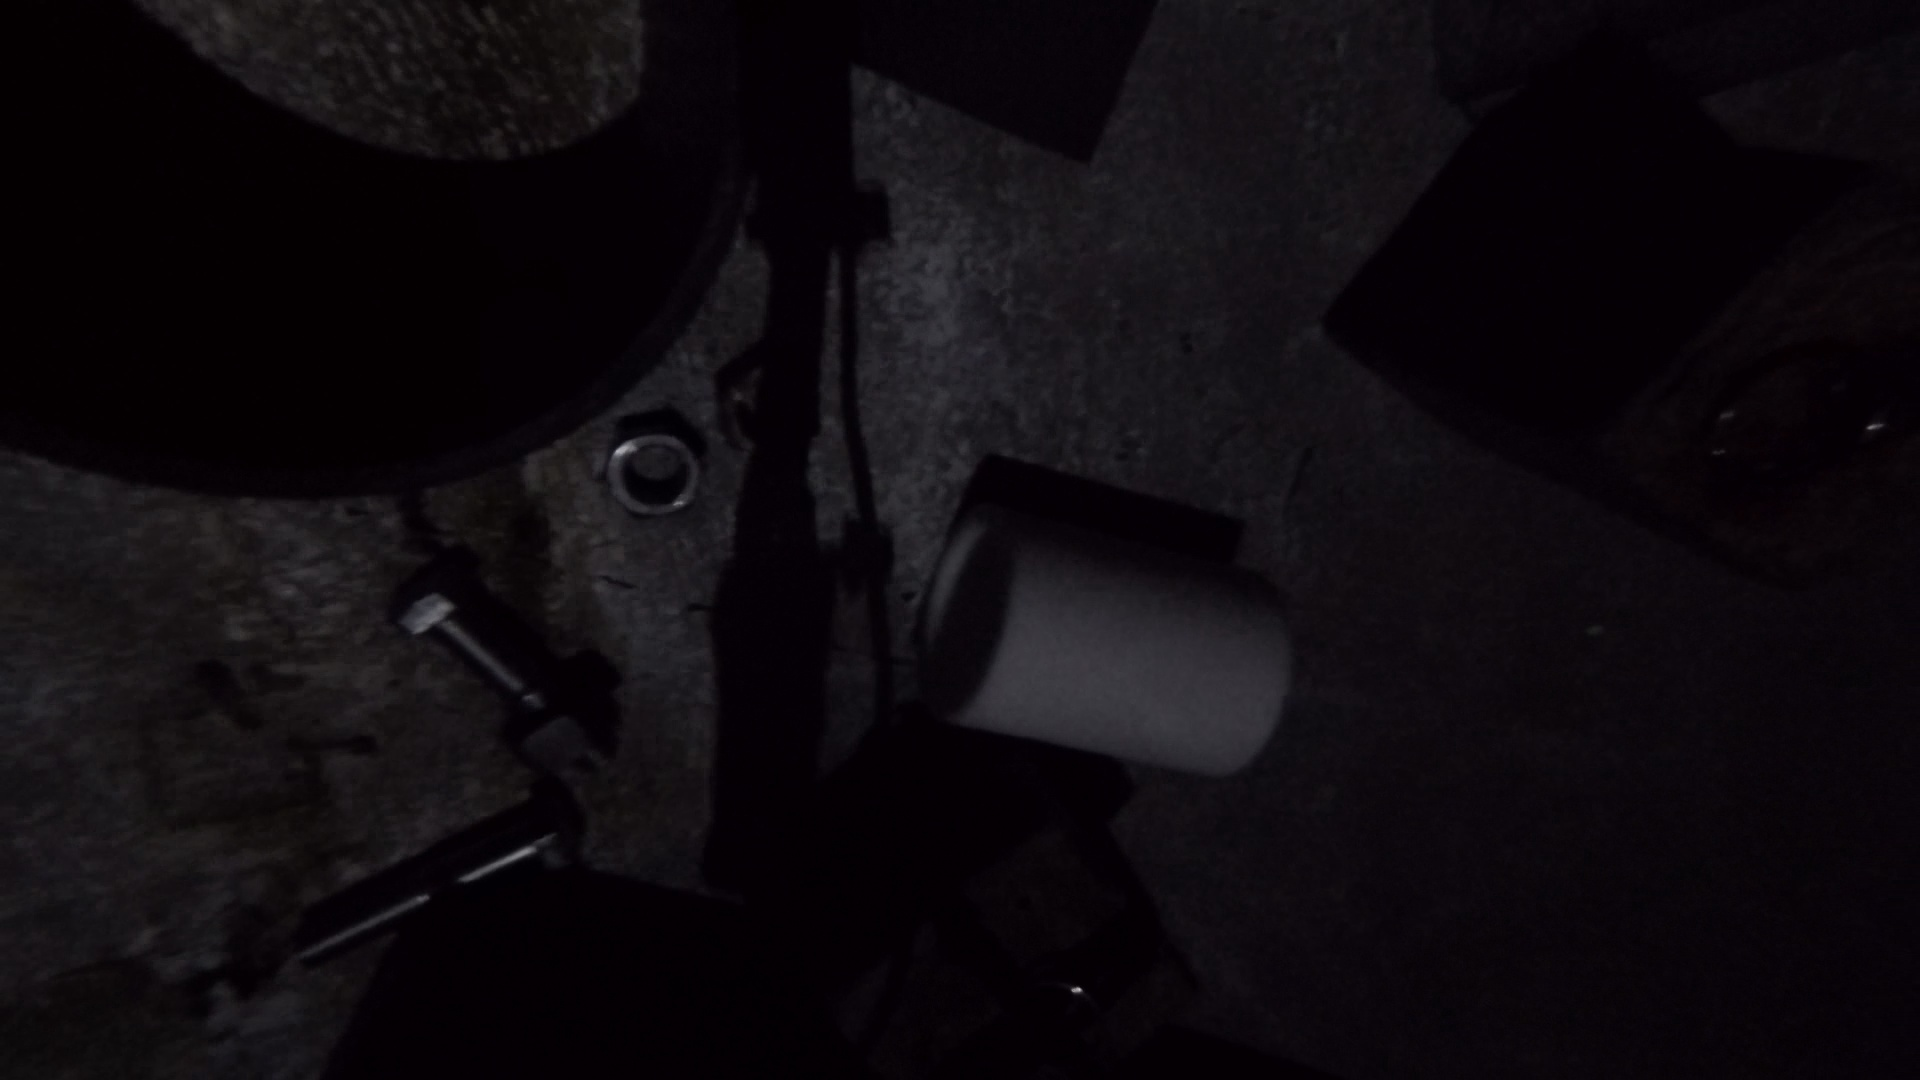bolt: (388, 545, 620, 774), (291, 796, 580, 971)
led_block: (1321, 99, 1911, 599), (799, 757, 1203, 1077)
nut: (502, 671, 622, 779), (603, 404, 705, 521), (713, 344, 760, 459)
pipe: (1, 1, 753, 504), (915, 498, 1296, 783), (799, 1, 1160, 166)
